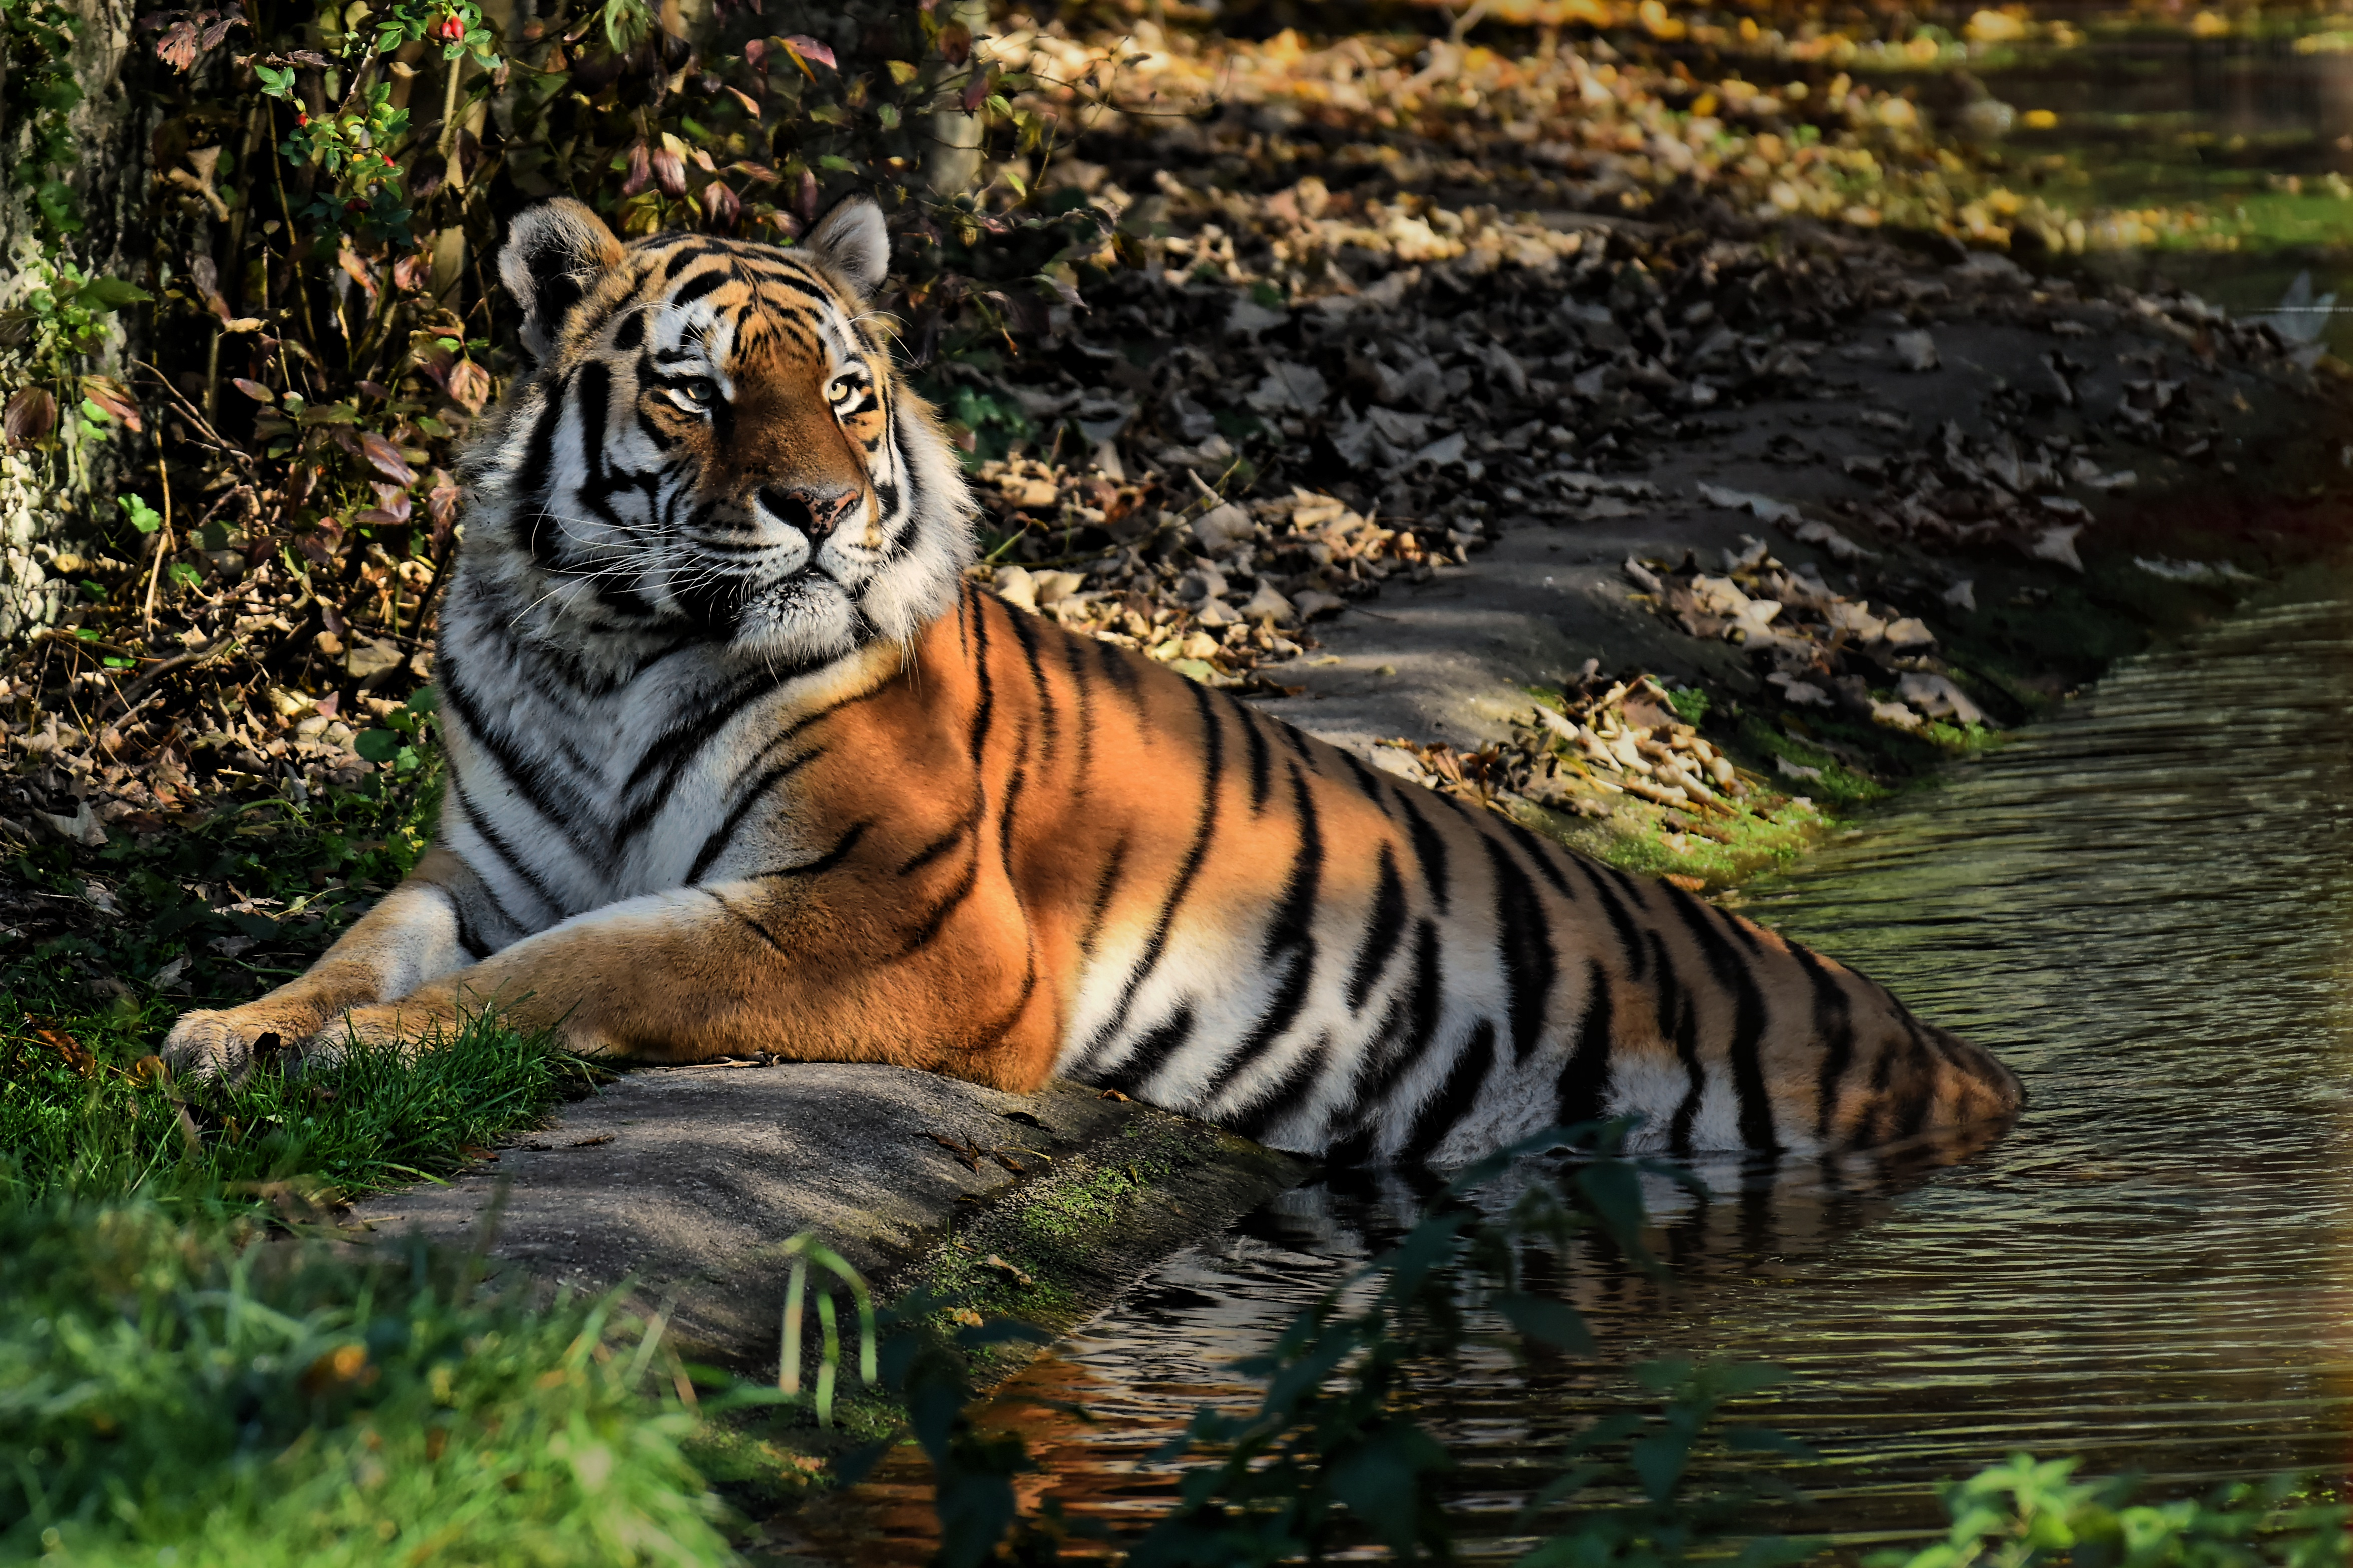tiger: (382, 226, 1812, 1200)
